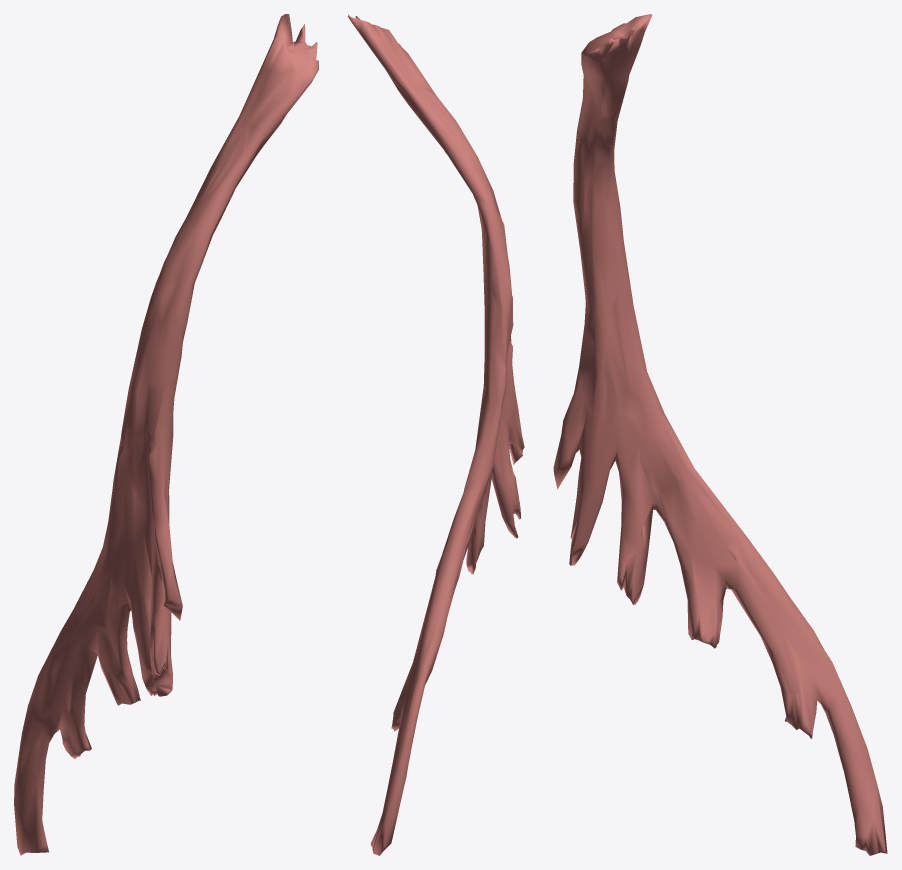
3 renders of one model, left to right at view 1: azimuth 30°, elevation 25°; view 2: azimuth 150°, elevation 25°; view 3: azimuth 270°, elevation 25°, orthographic. The views are drawn at different scales.
Visible parts, largest first — view 1: ZA_03f22370733bff88; view 2: ZA_03f22370733bff88; view 3: ZA_03f22370733bff88.
Part boxes in pixels (x1,y1,x2,y2): ZA_03f22370733bff88: (14, 14, 318, 855); ZA_03f22370733bff88: (347, 14, 524, 855); ZA_03f22370733bff88: (553, 14, 887, 855).
Bounding box in the file's own units: 0.0353 × 0.1572 × 0.0522.
